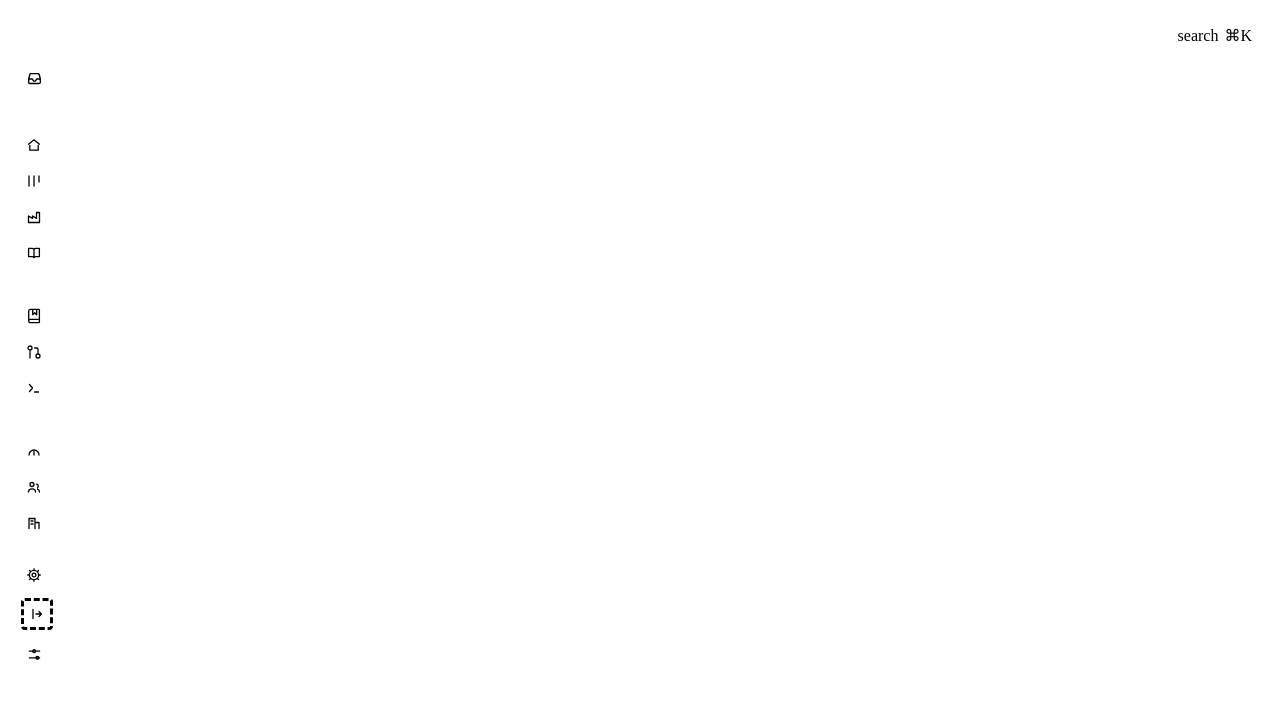
Shell — the palette reads the same array as the rail › finds a destination the viewer does hold
Type keys "{Meta>}k{/Meta}"
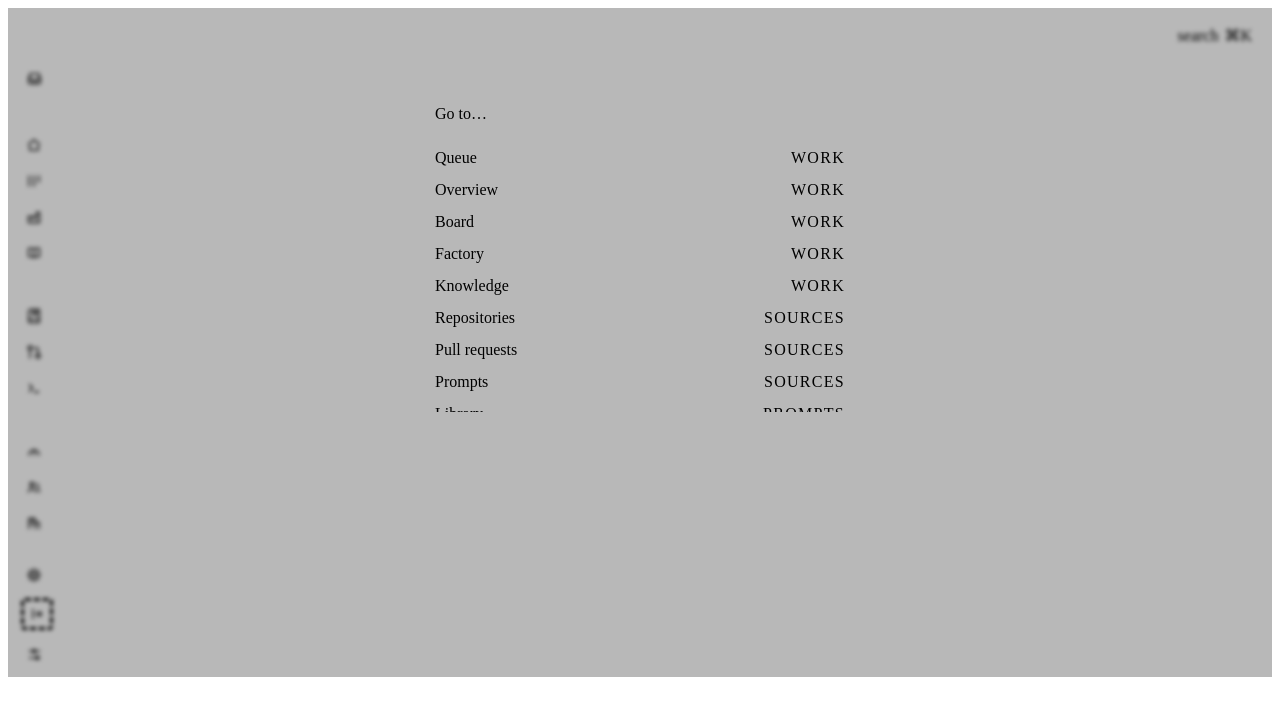
Type "organi" into the field labelled "Go to" at (655, 114), box [420, 92, 890, 136]
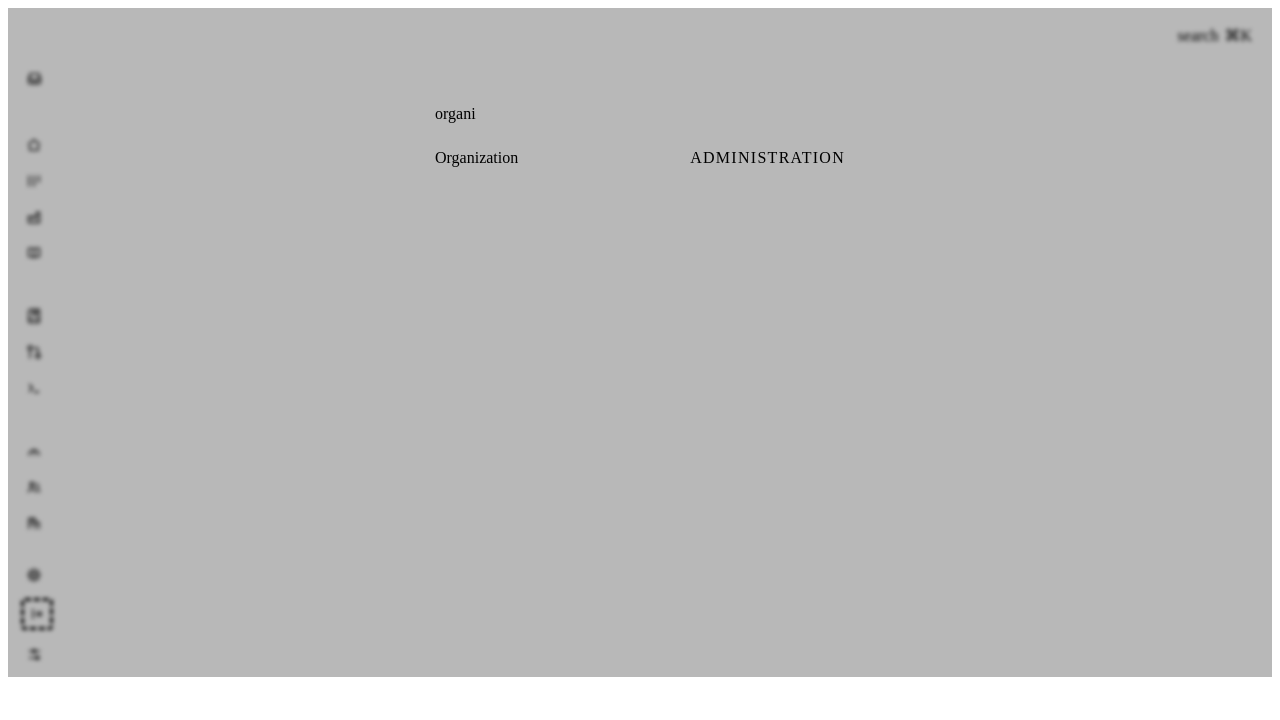
Now the element with class "sh-palrow" shows "Organization", box [435, 149, 518, 166]
